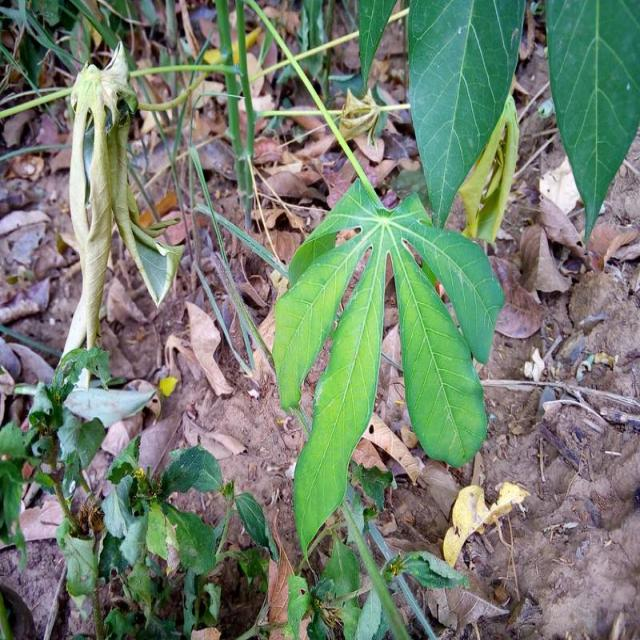cassava leaf: (272, 173, 505, 560), (405, 0, 525, 228), (544, 0, 639, 243)
